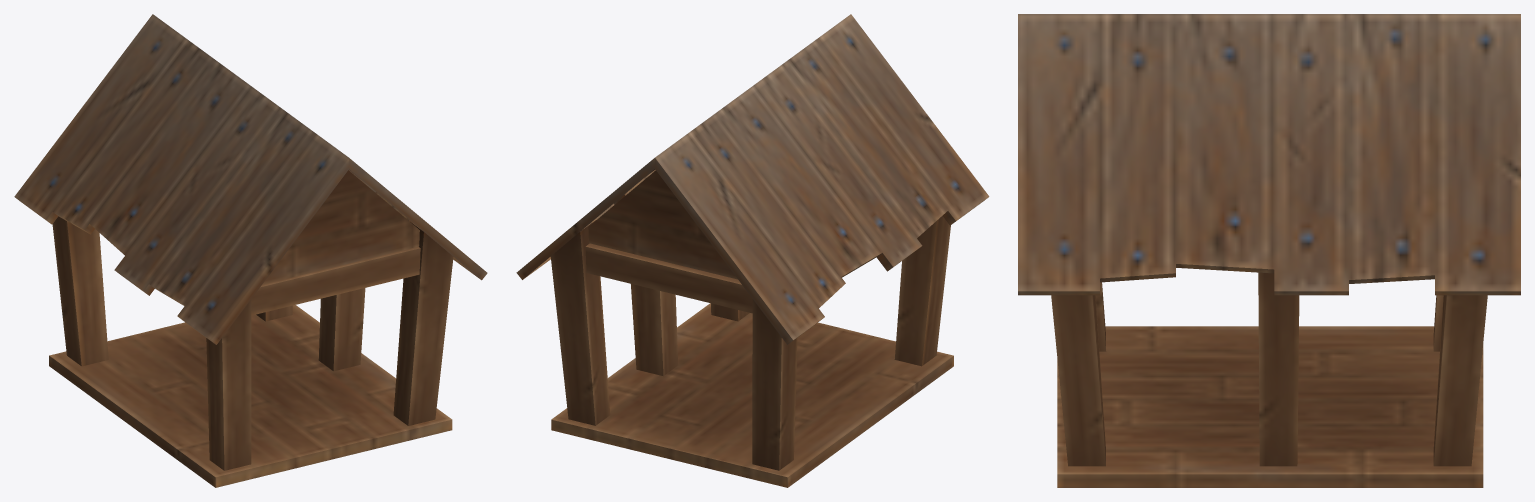
File: mine_house_a.FBX
The picture shows the model from 3 angles, left to right: view 1: azimuth 30°, elevation 25°; view 2: azimuth 150°, elevation 25°; view 3: azimuth 270°, elevation 25°; orthographic projection. The views are drawn at different scales.
Visible parts, largest first — view 1: polySurface2251; view 2: polySurface2251; view 3: polySurface2251.
Part boxes in pixels (x1,y1,x2,y2): polySurface2251: (14,14,487,487); polySurface2251: (516,14,989,487); polySurface2251: (1018,14,1520,487).
Size of the model in its own units: 51.37 by 63.06 by 55.36.
